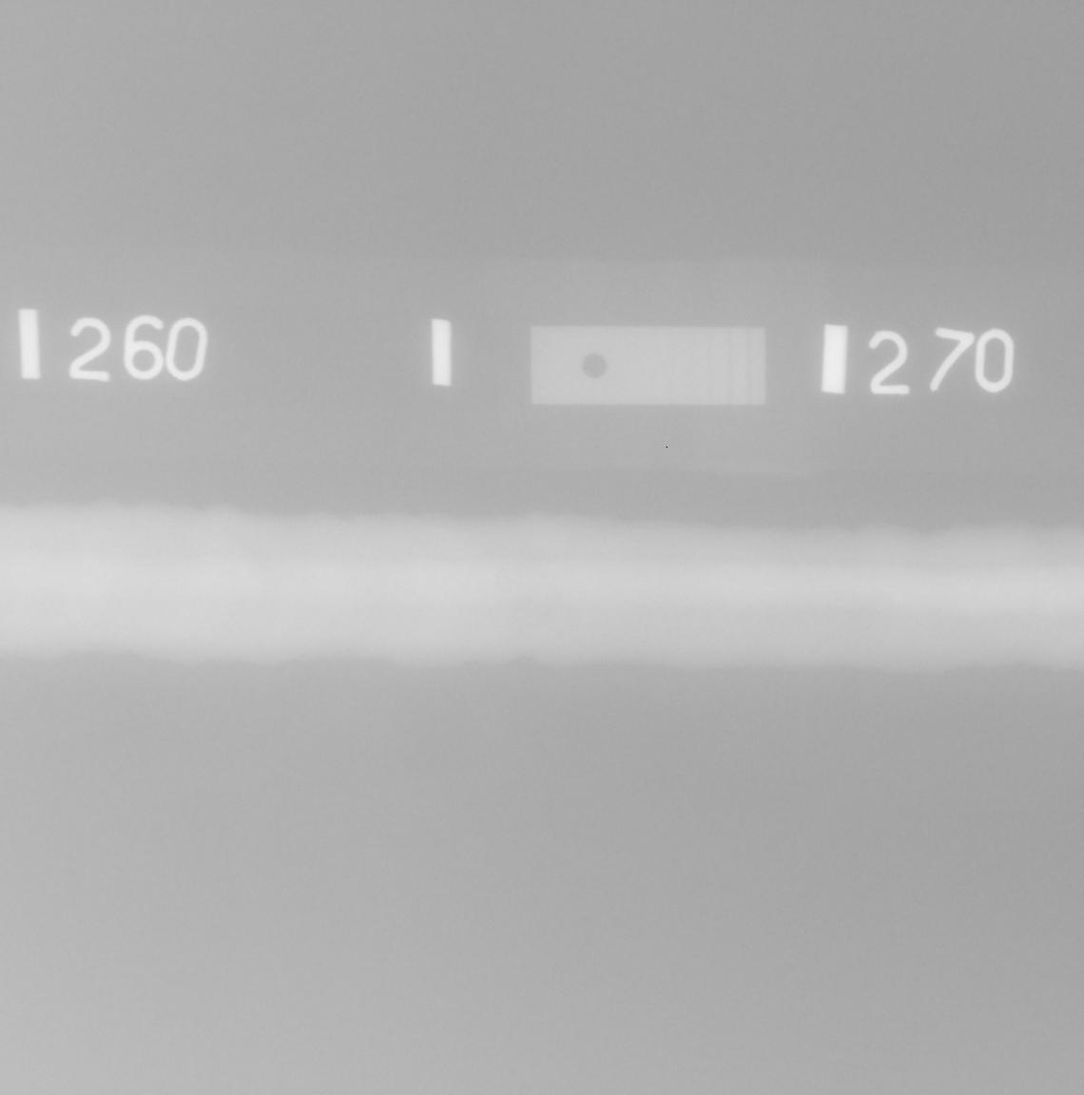Pore/Porosity: (499, 568, 506, 571), (495, 582, 499, 585), (503, 575, 507, 578)
Reference Standard 1: (531, 326, 766, 405)
